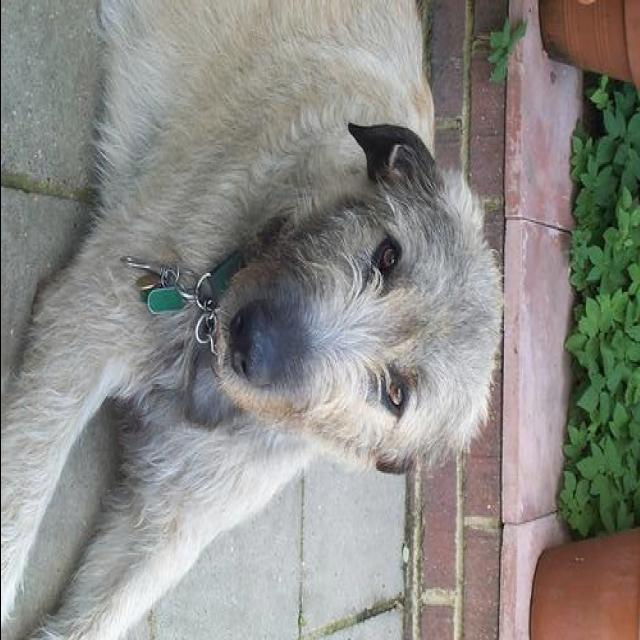irish_wolfhound: (4, 3, 502, 640)
